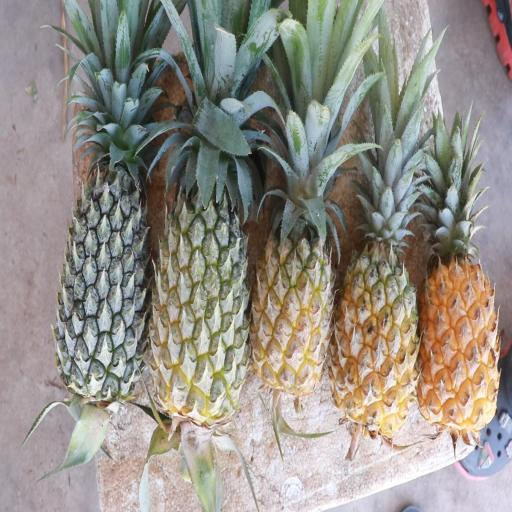------------------------------: (153, 151, 245, 417)
Pineapple - v8 v1: (333, 202, 417, 421), (419, 212, 500, 426), (254, 183, 335, 390)
